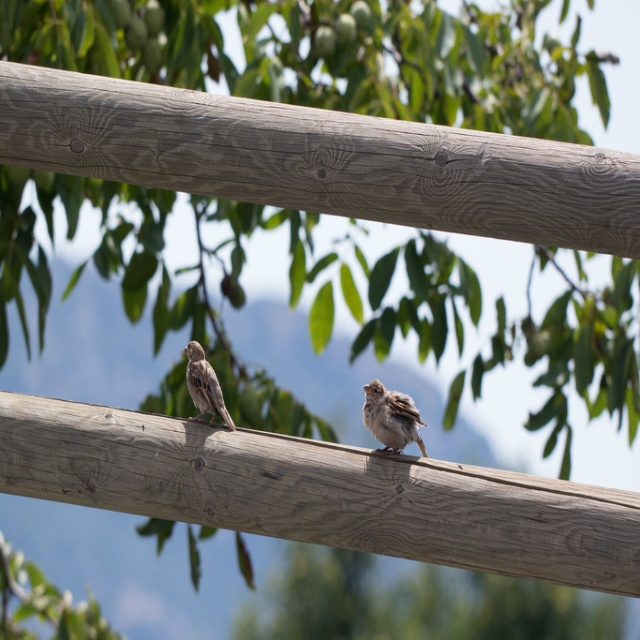Sparrow: (362, 382, 428, 456), (181, 339, 235, 428)
